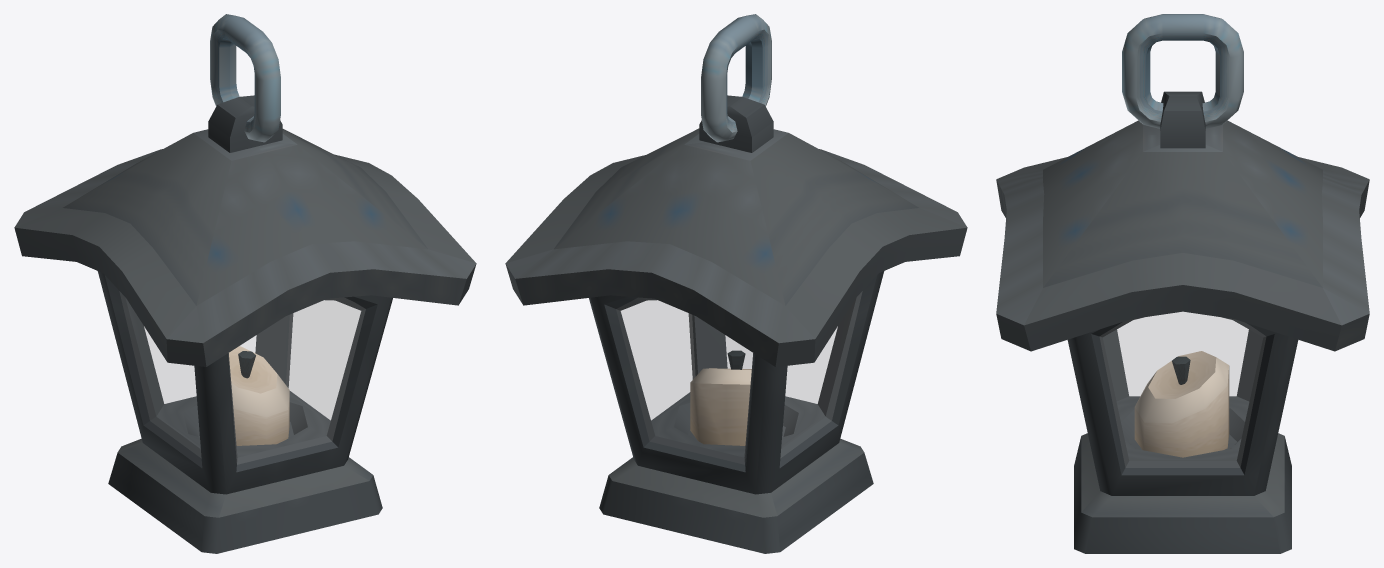
File: lantern.glb
The picture shows the model from 3 angles, left to right: view 1: azimuth 30°, elevation 25°; view 2: azimuth 150°, elevation 25°; view 3: azimuth 270°, elevation 25°; orthographic projection. The views are drawn at different scales.
Parts seen in each view (by area): view 1: lantern, lantern_handle; view 2: lantern, lantern_handle; view 3: lantern, lantern_handle.
Boxes of the visible parts, bbox=[...] form: lantern: bbox=[14, 95, 476, 553]; lantern_handle: bbox=[210, 14, 280, 142]; lantern: bbox=[505, 95, 967, 553]; lantern_handle: bbox=[701, 14, 771, 142]; lantern: bbox=[996, 91, 1369, 553]; lantern_handle: bbox=[1122, 14, 1243, 128].
Bounding box in the file's own units: 0.7528 × 1.11 × 0.7528.
Materials: 2 (1 with a texture image).
